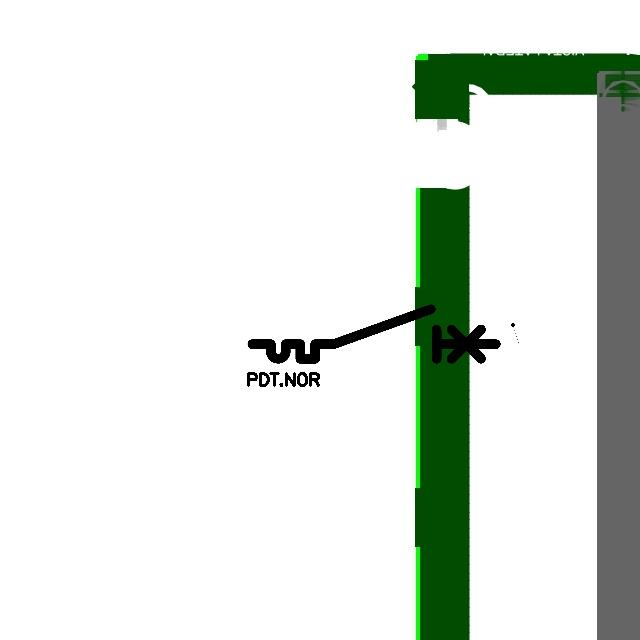interruptor_termomagnetico: (246, 303, 502, 365)
